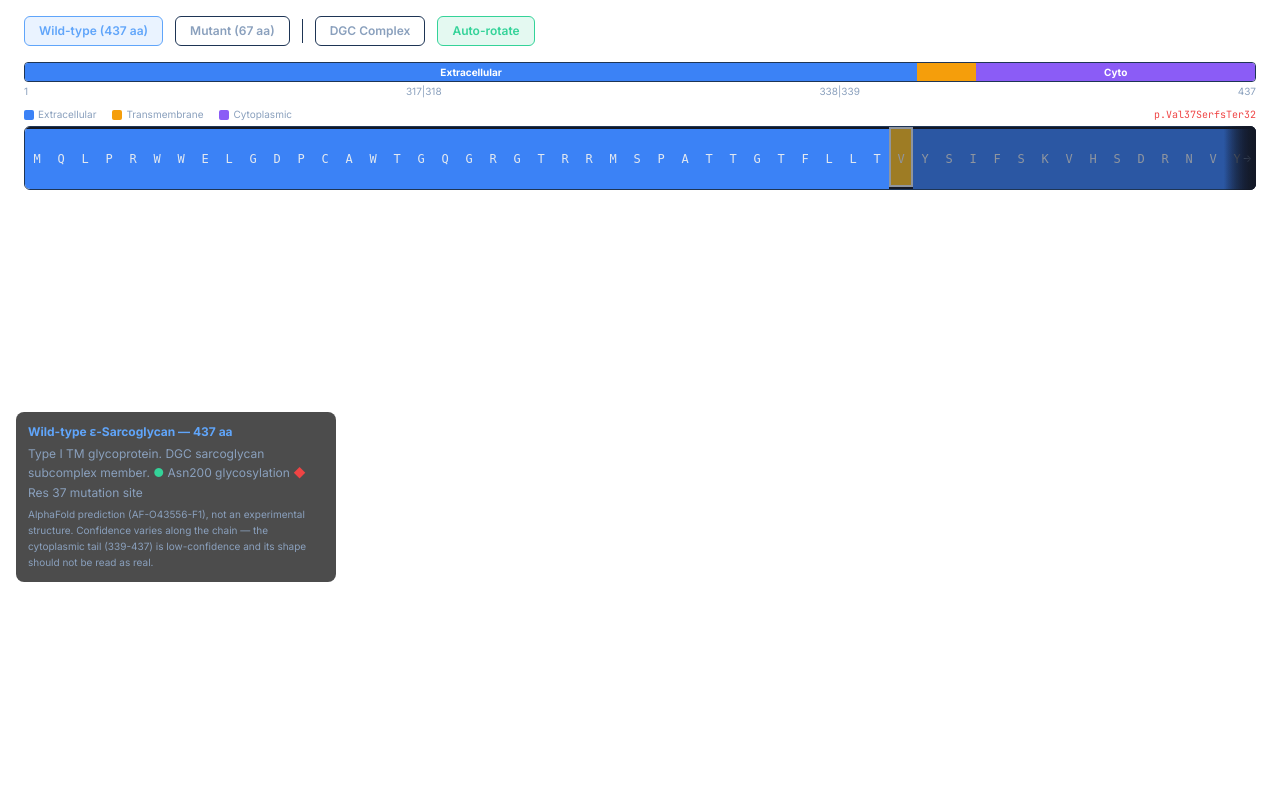
Test case: ProteinStructure3D › clicking DGC toggle renders DGCLegend
Step 1. Click the button "DGC Complex" → (370, 31), box [315,16,425,46]
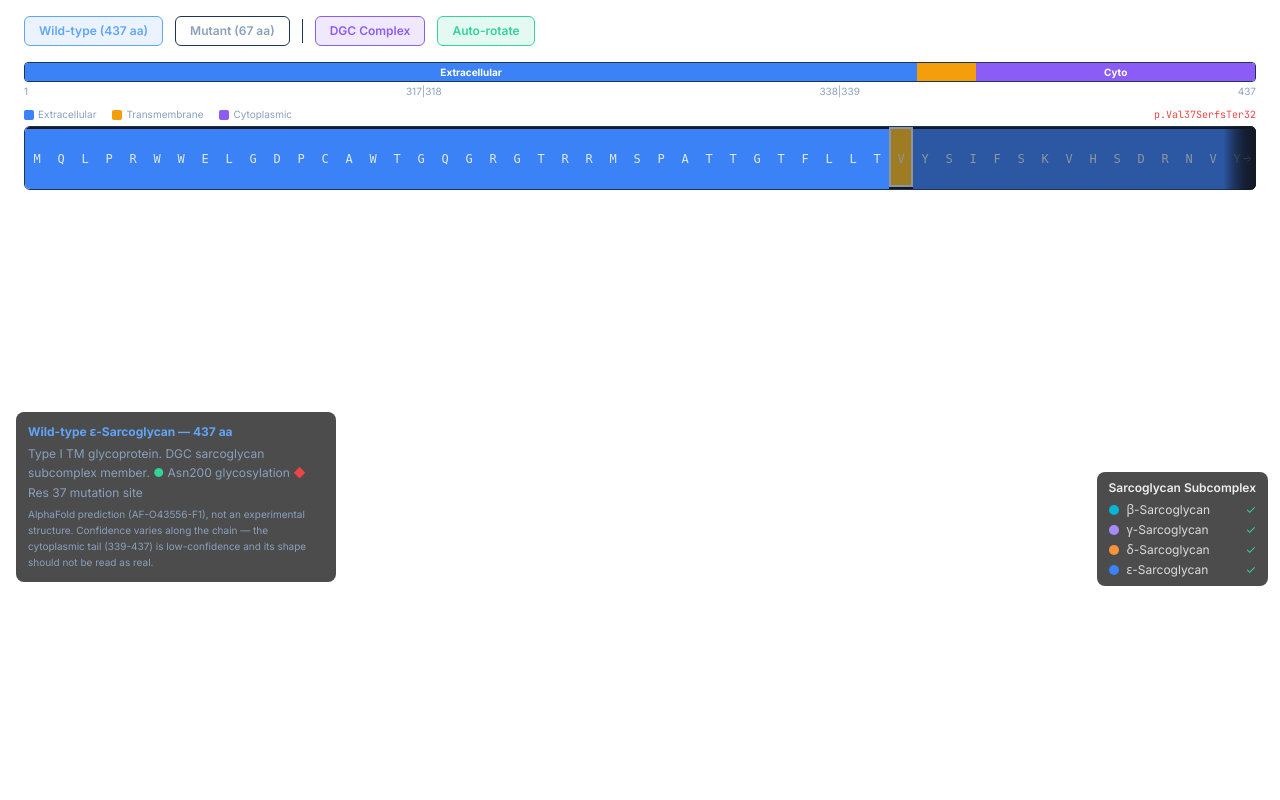
Expected: the text "Sarcoglycan Subcomplex" is shown, [1108,480,1256,496]
